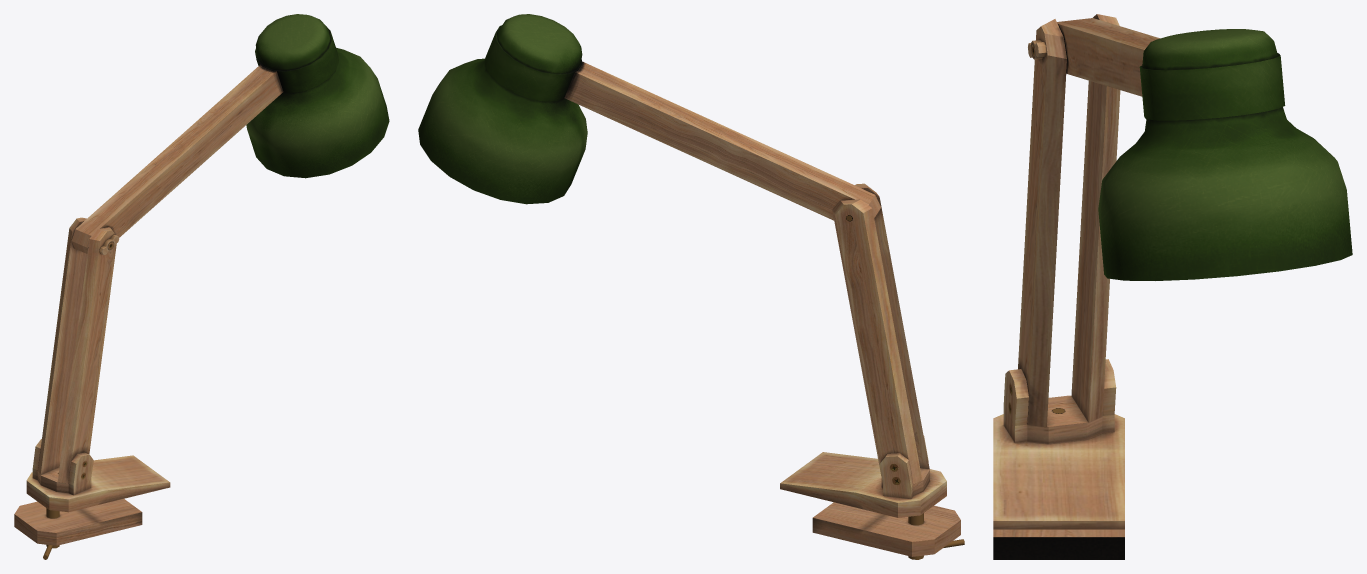
File: DeskLamp.FBX
3 views of the same model, side by side, from view 1: azimuth 30°, elevation 25°; view 2: azimuth 150°, elevation 25°; view 3: azimuth 270°, elevation 25° (orthographic). The views are drawn at different scales.
Parts seen in each view (by area): view 1: DeskLamp; view 2: DeskLamp; view 3: DeskLamp.
Part boxes in pixels (<box>): DeskLamp: <box>14,14,389,559</box>; DeskLamp: <box>418,14,964,559</box>; DeskLamp: <box>993,14,1352,559</box>.
Size of the model in its own units: 51.97 by 52.3 by 22.66.
